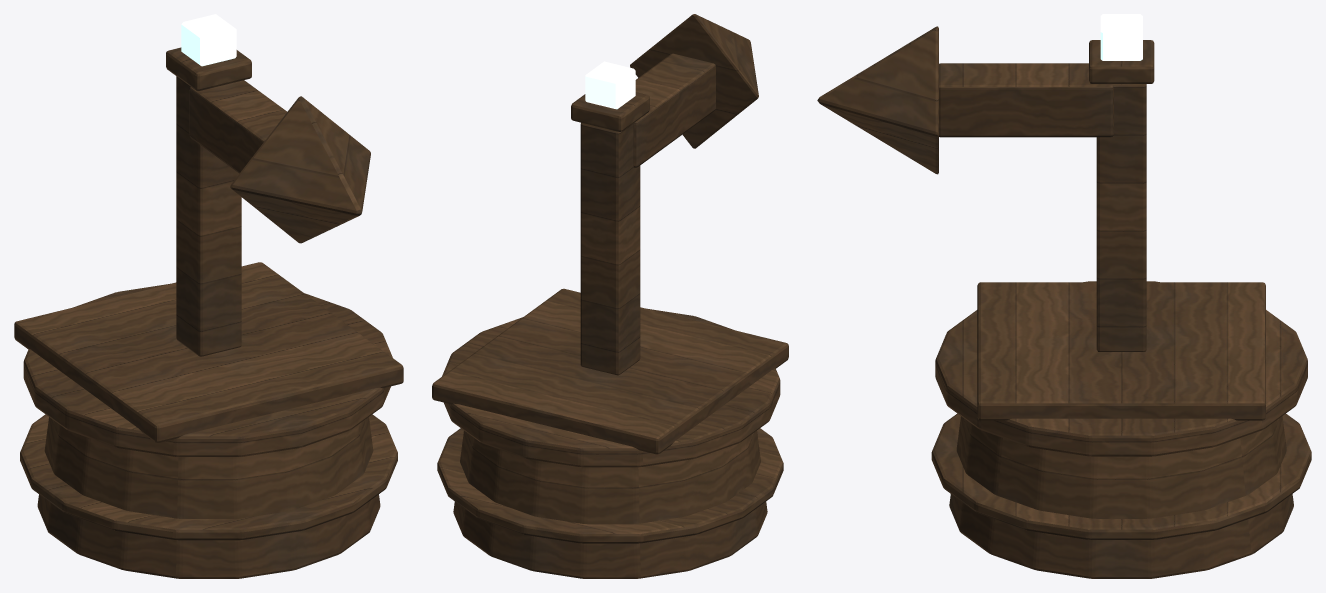
File: flow_marker.glb
3 renders of one model, left to right at view 1: azimuth 30°, elevation 25°; view 2: azimuth 150°, elevation 25°; view 3: azimuth 270°, elevation 25°, orthographic. The views are drawn at different scales.
Visible parts, largest first — view 1: marker_wood_mesh, marker_lamp_mesh; view 2: marker_wood_mesh, marker_lamp_mesh; view 3: marker_wood_mesh, marker_lamp_mesh.
Part boxes in pixels (bbox=[...]): marker_wood_mesh: bbox=[14, 47, 403, 578]; marker_lamp_mesh: bbox=[181, 14, 236, 66]; marker_wood_mesh: bbox=[432, 14, 788, 578]; marker_lamp_mesh: bbox=[585, 61, 635, 109]; marker_wood_mesh: bbox=[817, 26, 1311, 578]; marker_lamp_mesh: bbox=[1100, 14, 1142, 60].
Bounding box in the file's own units: 1.95 × 2.79 × 2.57.
Materials: 2 (1 with a texture image).
